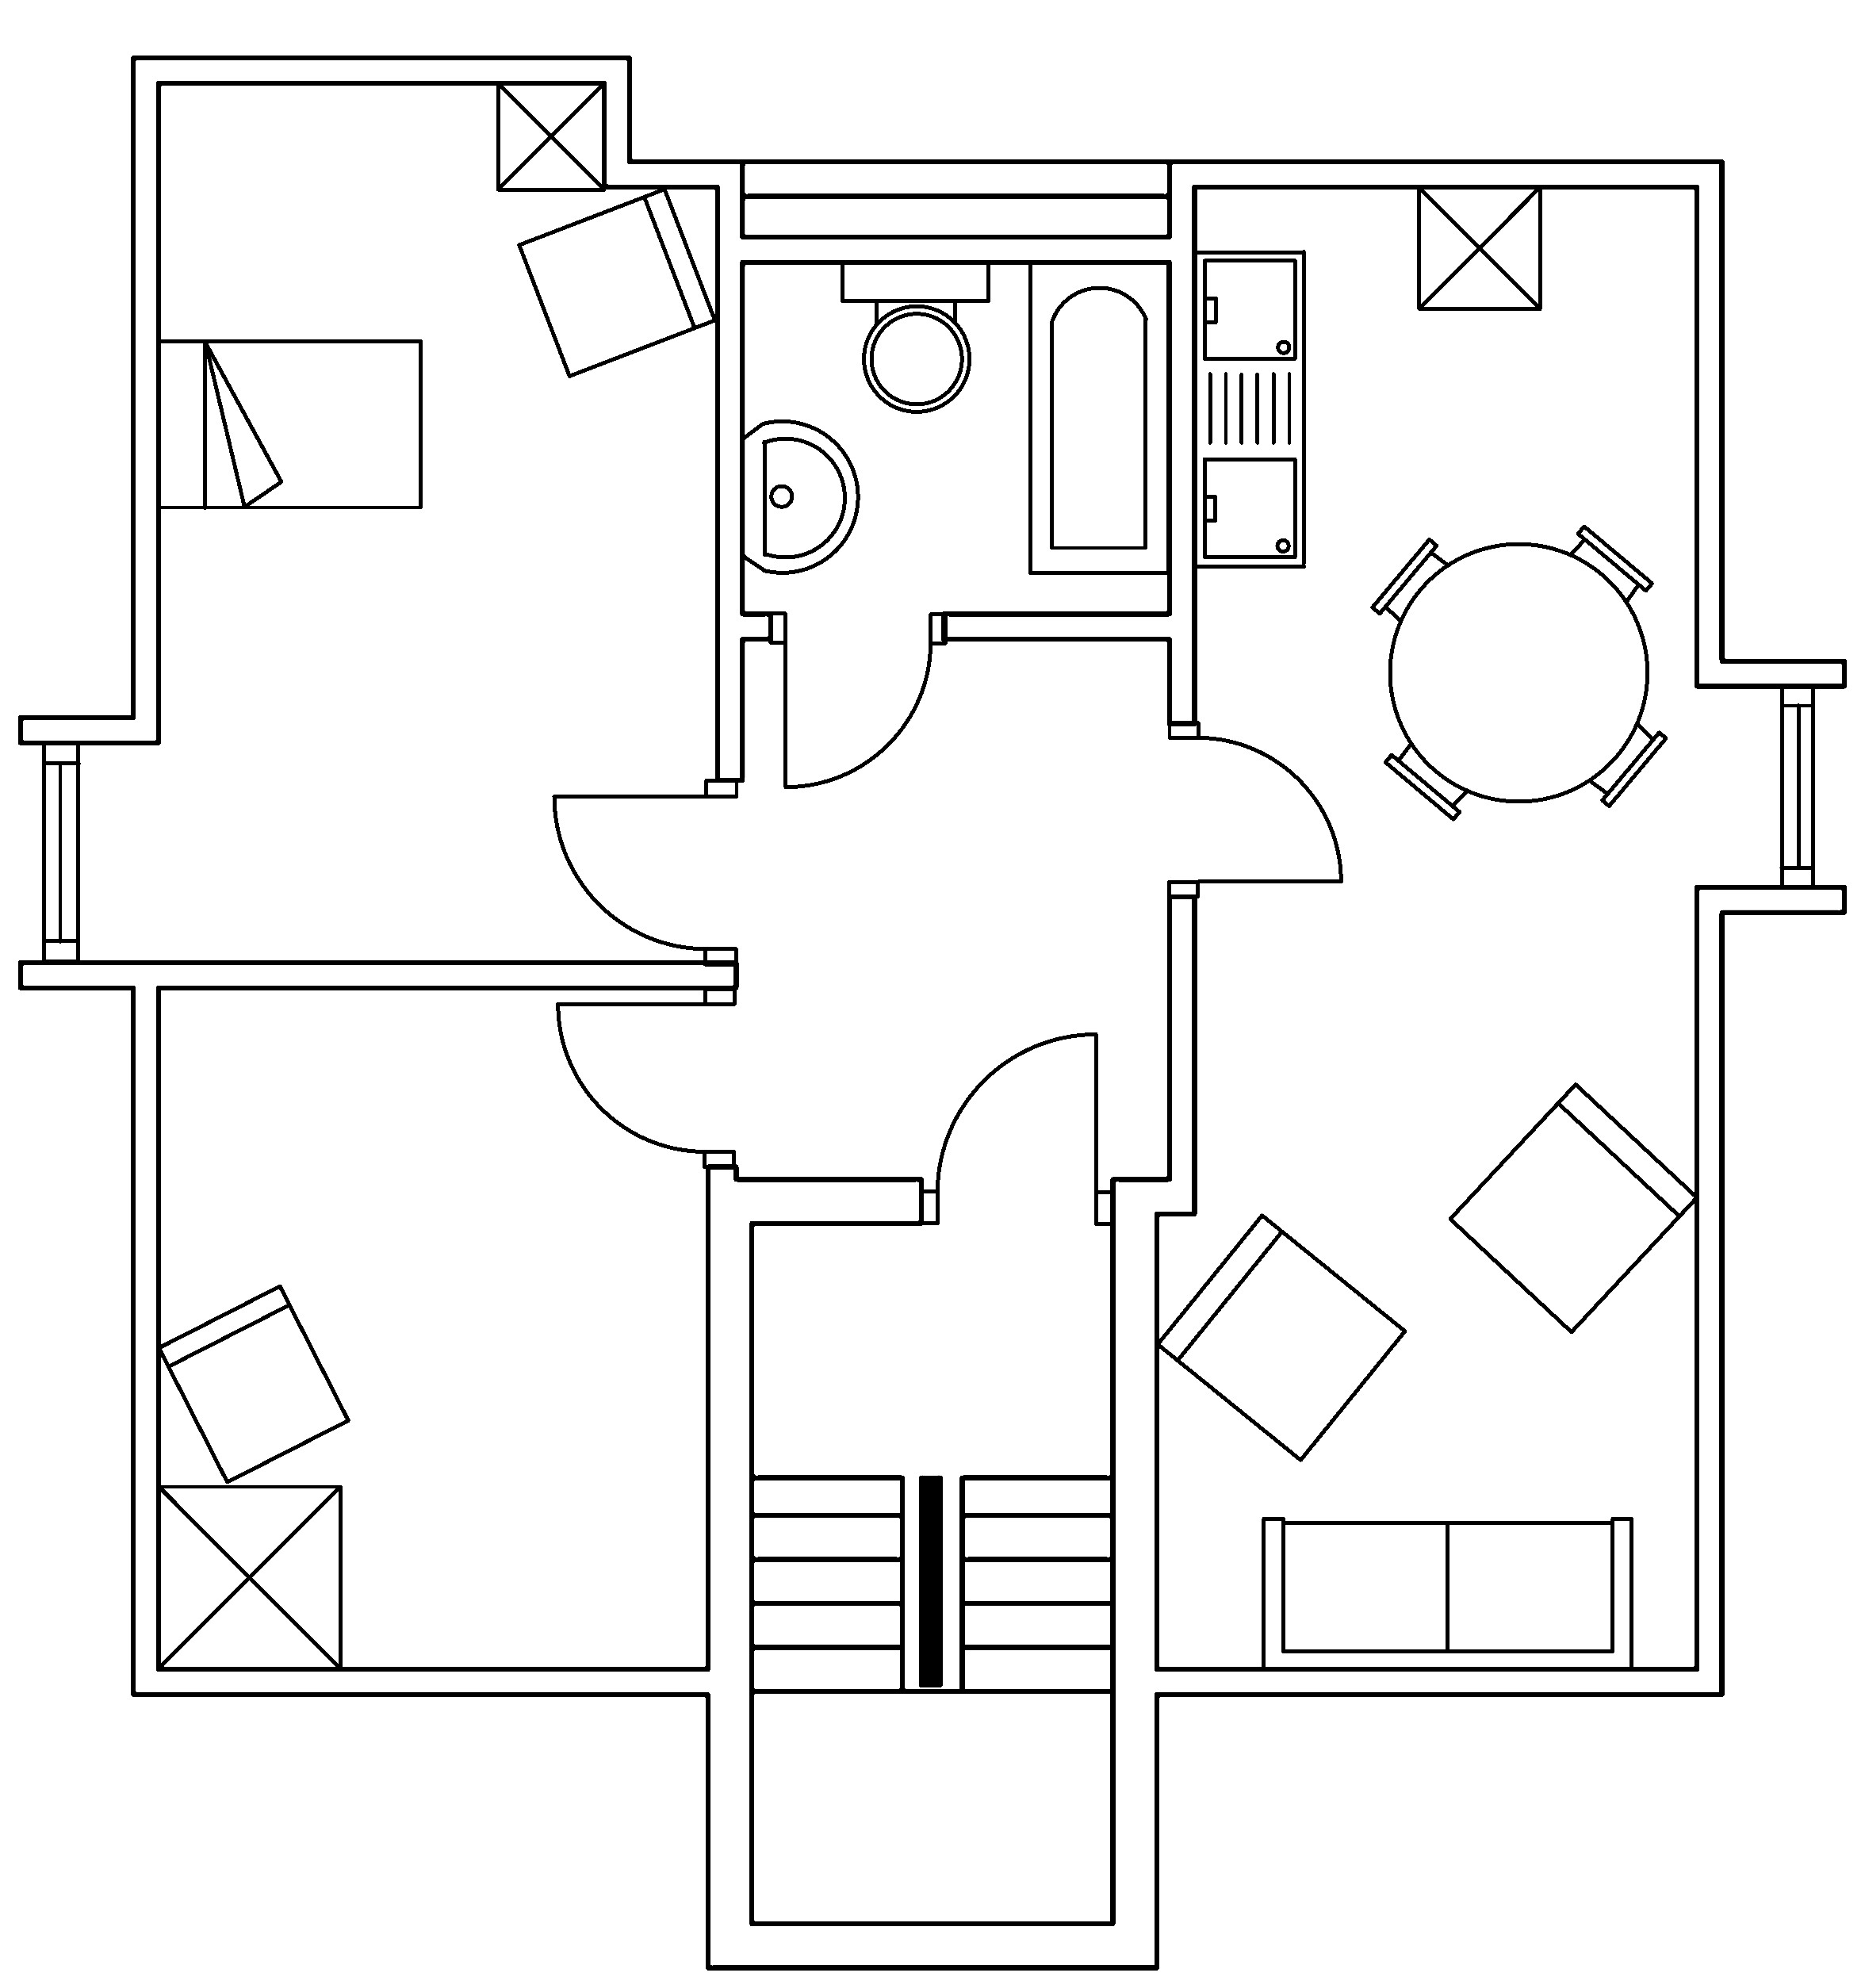bed: (154, 337, 424, 510)
coffee_table: (154, 1481, 342, 1671), (1416, 182, 1542, 310), (494, 79, 606, 191)
large_sink: (840, 258, 990, 412)
large_sofa: (1260, 1515, 1634, 1672)
round_table: (1369, 522, 1669, 822)
small_sink: (740, 419, 859, 573)
small_sofa: (1446, 1080, 1698, 1334), (1153, 1211, 1408, 1462), (156, 1282, 351, 1485), (515, 186, 717, 379)
tub: (1027, 258, 1171, 575)
twin_sink: (1192, 247, 1308, 570)
